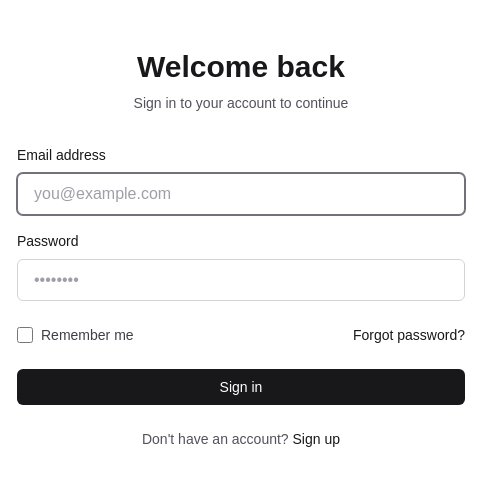
Test: Login Page › should show error when submitting empty form
Click the button "Sign in": x=241, y=387 [17,369,465,405]
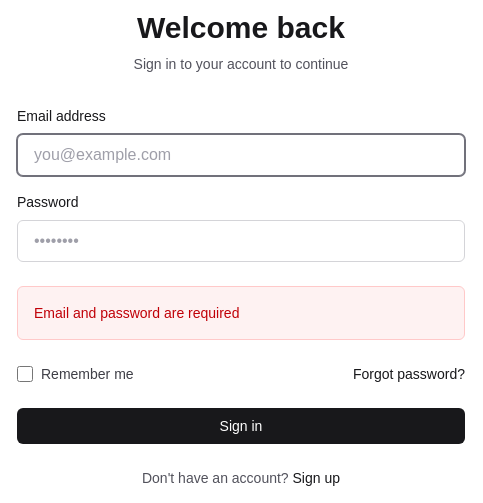
Now the text "Email and password are required" is shown, box [34,305,240,321]
